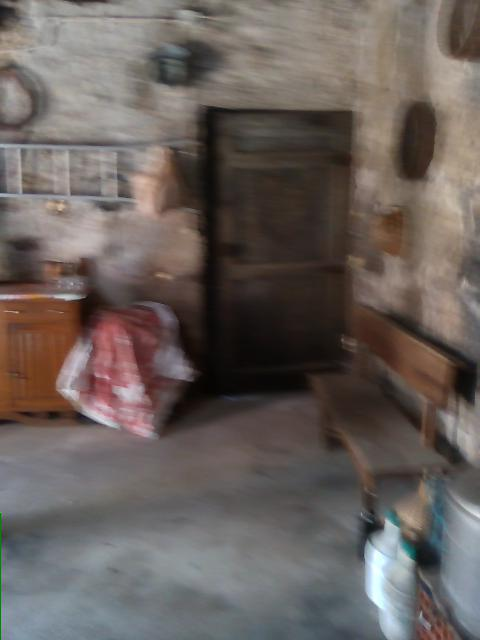door: (201, 109, 350, 397)
